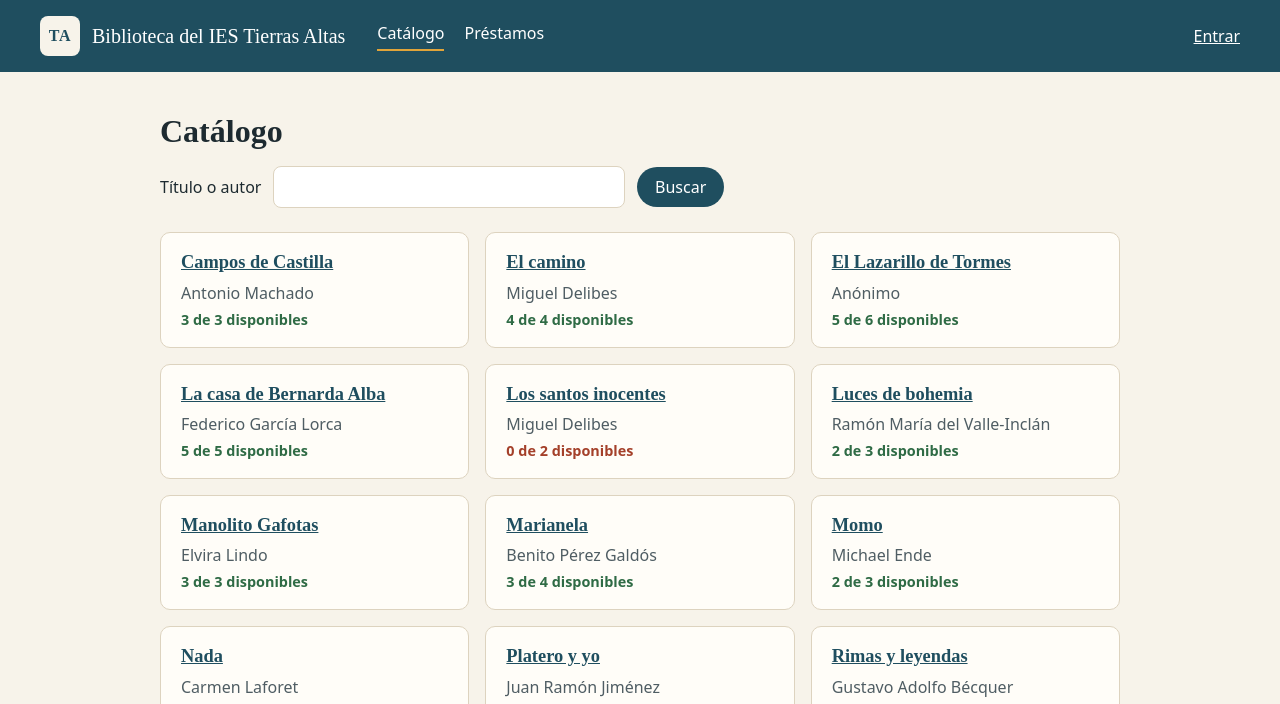
Scenario: El catálogo › buscar deja la búsqueda en la URL y filtra la lista
Check: the link "Marianela" is shown, box [506,515,588,535]
In the search field labelled "Título o autor": (449, 187) [273,166,625,208], type "delibes"
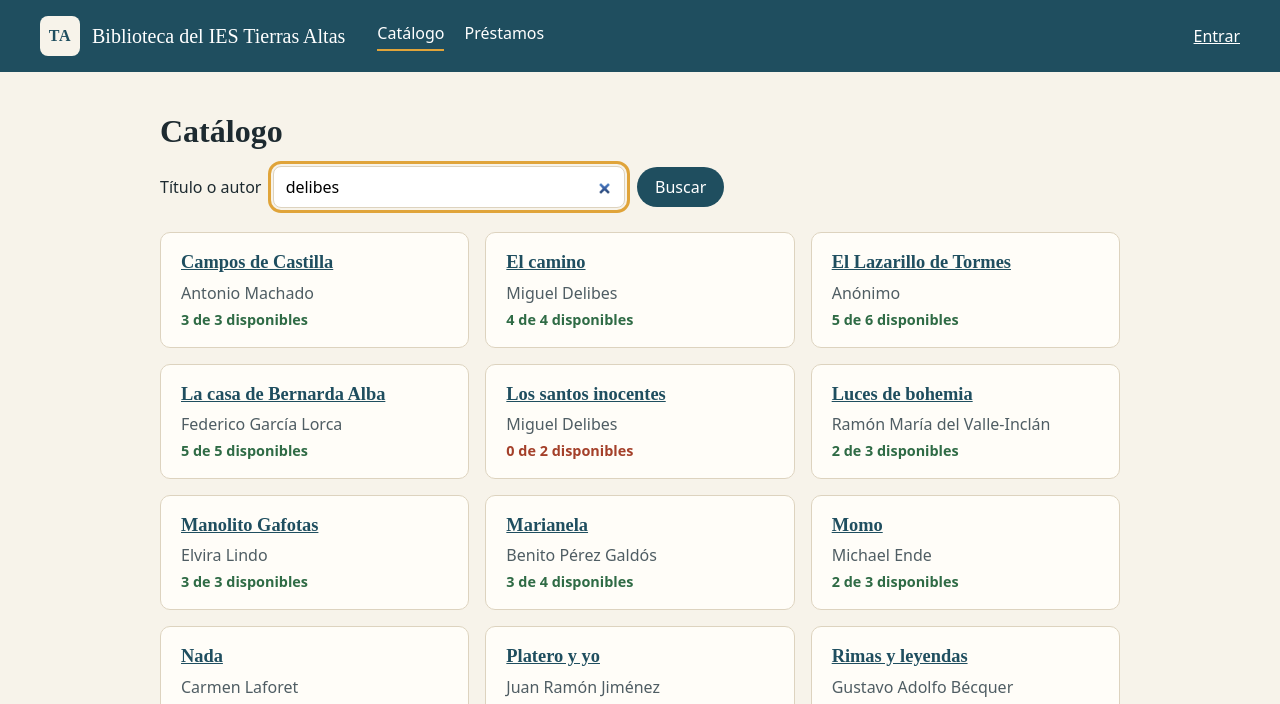
Click the button "Buscar": click(681, 187) [637,167,724,207]
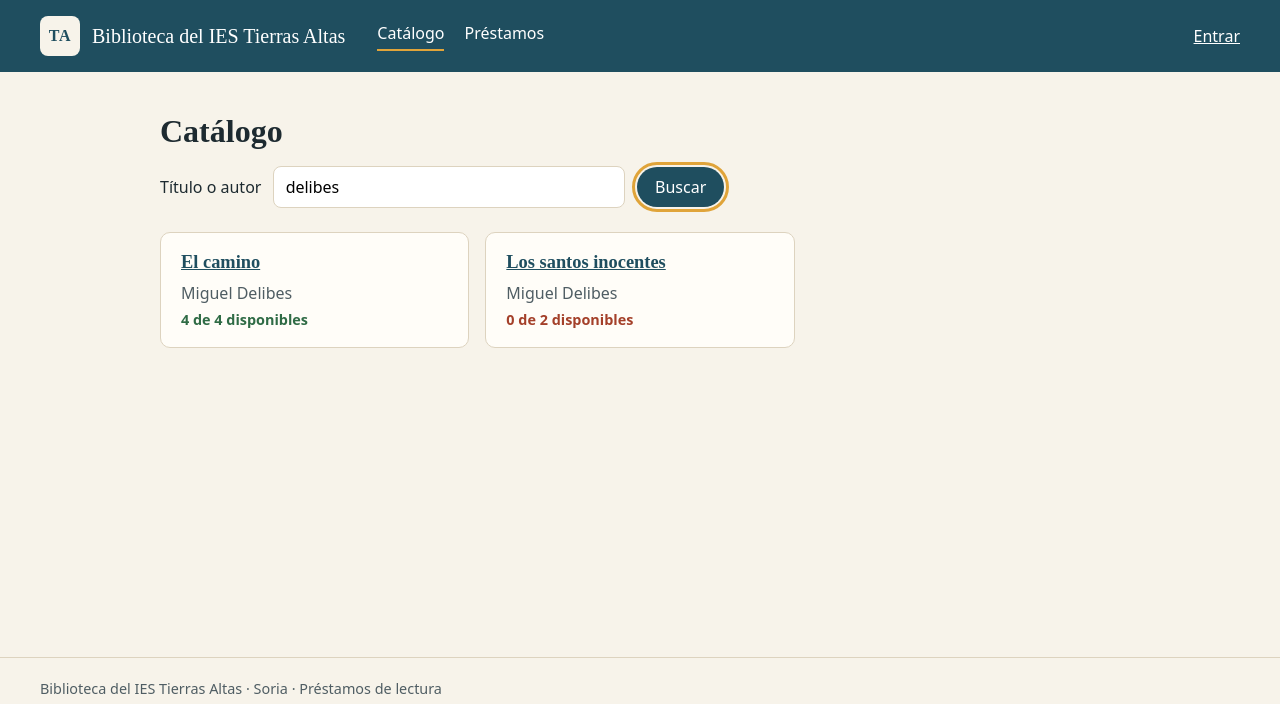
Check: the link "Marianela" is gone
